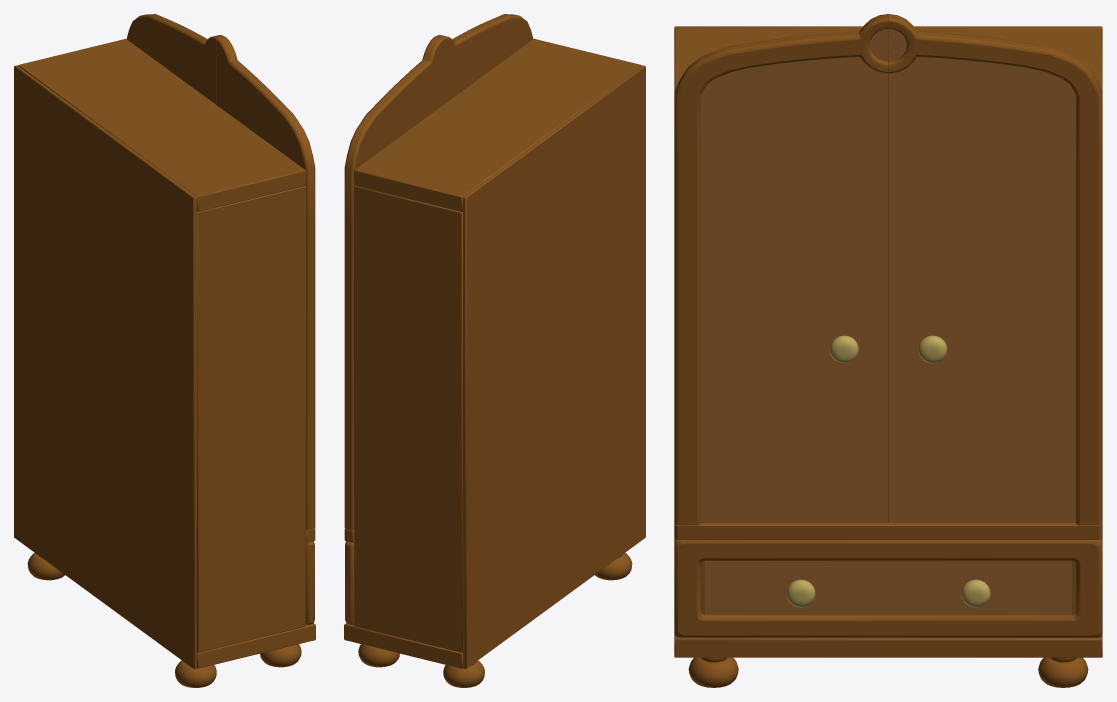
File: Closet.glb
The picture shows the model from 3 angles, left to right: view 1: azimuth 30°, elevation 25°; view 2: azimuth 150°, elevation 25°; view 3: azimuth 270°, elevation 25°; orthographic projection. The views are drawn at different scales.
Parts seen in each view (by area): view 1: Closet, Closet_door_L, Closet_door_R, Drawer; view 2: Closet, Closet_door_R, Closet_door_L, Drawer; view 3: Closet_door_L, Closet_door_R, Drawer, Closet.
Part boxes in pixels (<box>): Closet: <box>14,38,315,687</box>; Closet_door_L: <box>216,37,315,530</box>; Closet_door_R: <box>126,14,225,104</box>; Drawer: <box>306,541,314,624</box>; Closet: <box>344,38,645,687</box>; Closet_door_R: <box>344,37,443,530</box>; Closet_door_L: <box>434,14,533,104</box>; Drawer: <box>345,541,353,624</box>; Closet_door_L: <box>674,14,888,525</box>; Closet_door_R: <box>888,14,1102,525</box>; Drawer: <box>674,539,1102,637</box>; Closet: <box>674,26,1102,687</box>.
Size of the model in its own units: 0.5933 by 2.31 by 1.34.
